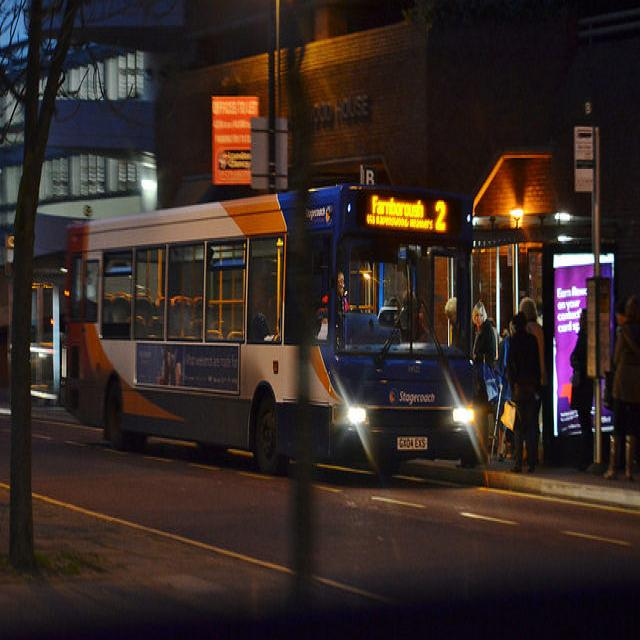Bus: (56, 183, 487, 539)
People: (496, 312, 544, 479), (608, 282, 640, 497), (564, 294, 594, 464)
